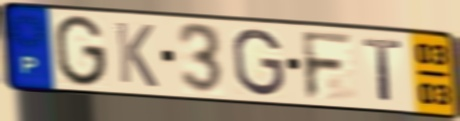3: (178, 20, 224, 97)
F: (298, 28, 356, 102)
G: (53, 13, 109, 89), (230, 27, 288, 99)
K: (112, 19, 160, 90)
T: (360, 36, 406, 104)
